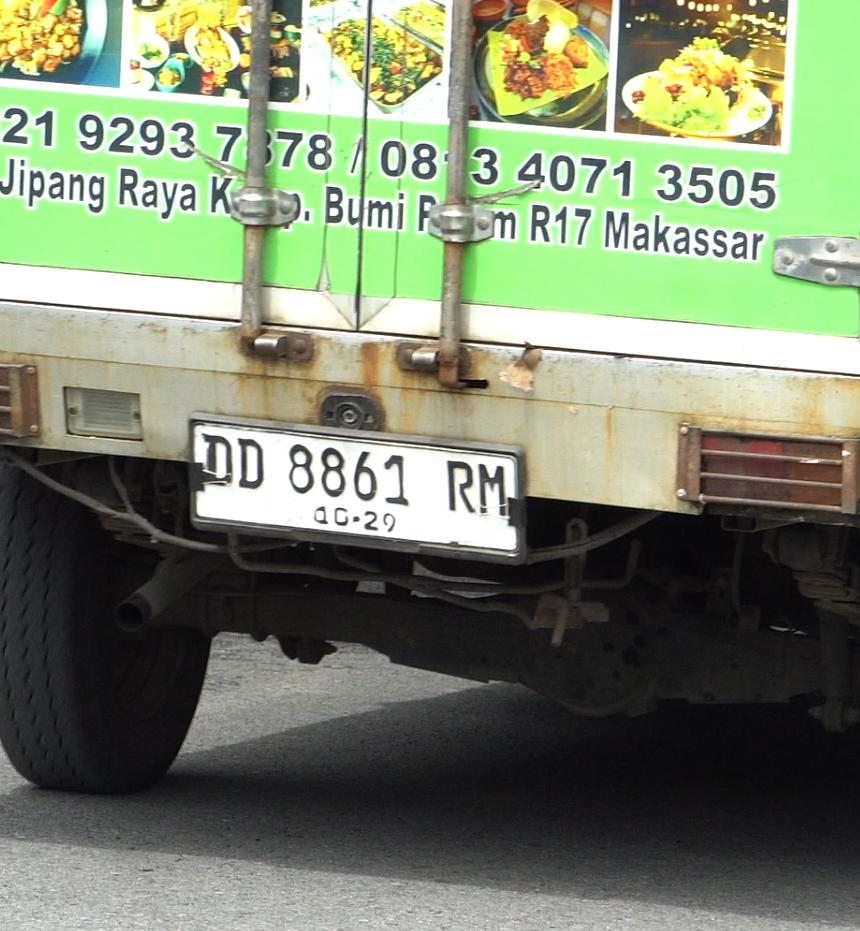number-plate: (182, 409, 547, 571)
